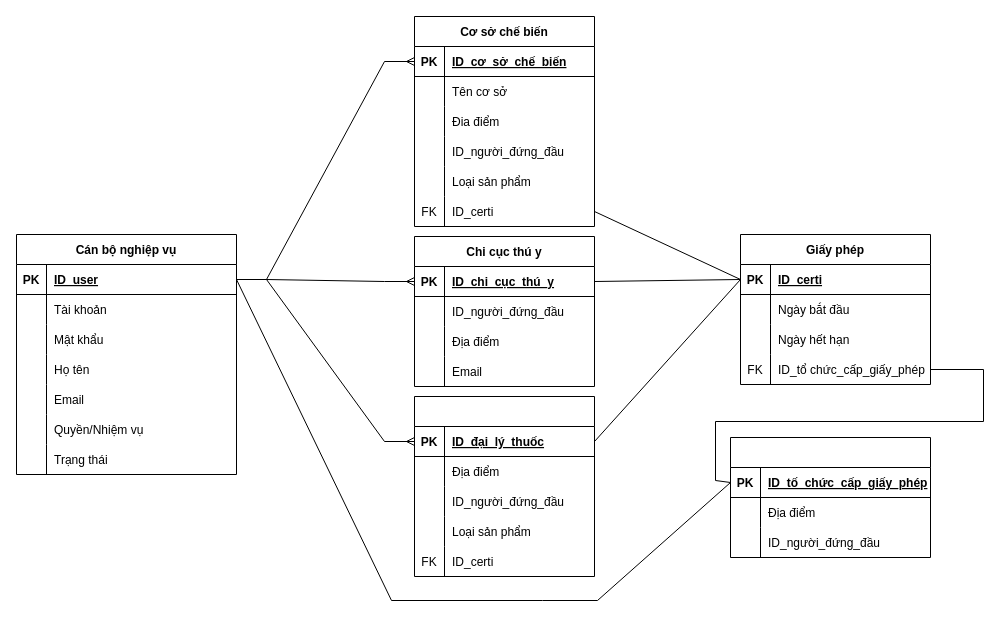
This 1000x617 diagram has some shape labels left out. Here are the shapes that lost their labels. From the top down, the box of each, then its label:
(414, 396, 594, 576): Đại lý bán thuốc
(730, 436, 930, 558): Tổ chức cấp giấy phép
